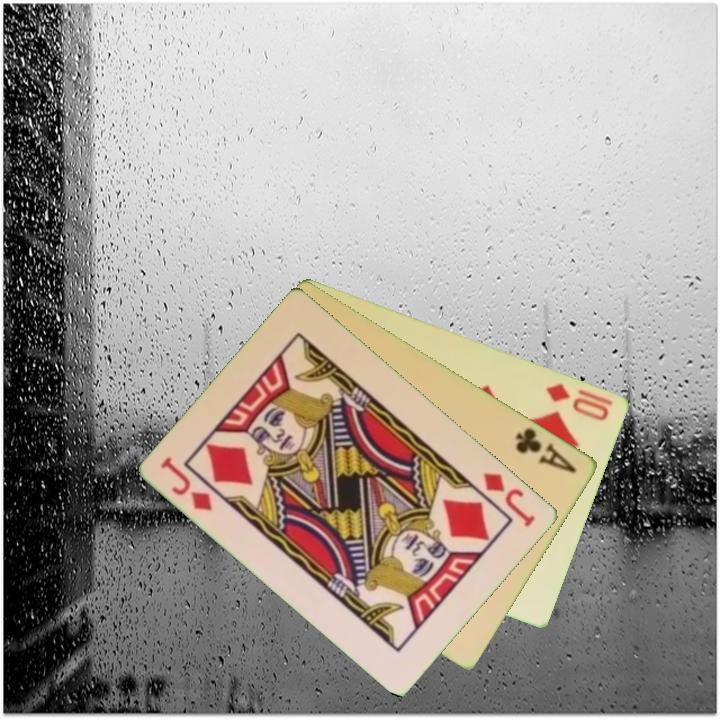10d: (543, 379, 616, 424)
Ac: (512, 424, 580, 477)
Jd: (480, 468, 539, 530), (157, 453, 216, 514)
